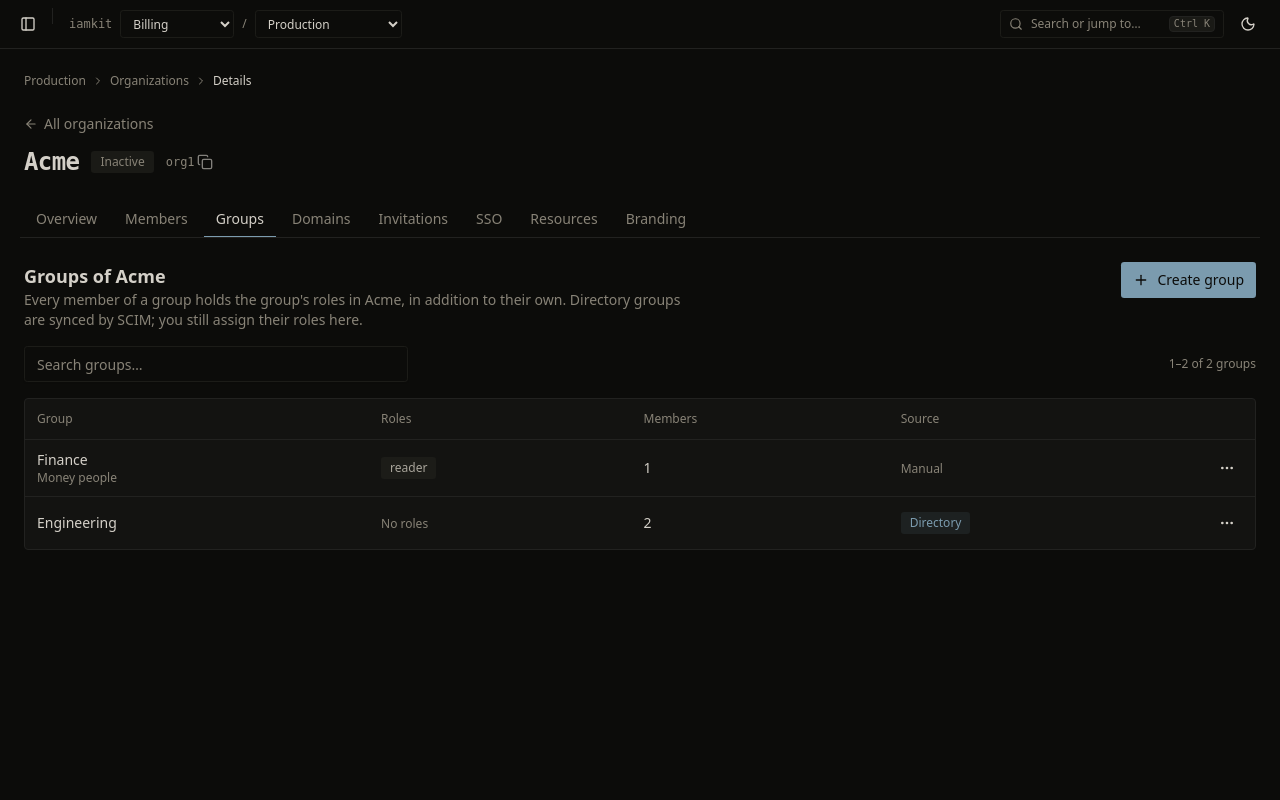
Test: lists groups with their roles, and makes directory groups read-only
The width and height of the screenshot is (1280, 800).
Expected: the link "Finance" is shown, top-left (37, 450), bottom-right (88, 468)
Expected: the heading "Groups of Acme" is shown, top-left (24, 264), bottom-right (166, 288)
Step 1. Click the button named "Actions for Finance" → (1227, 468), box top-left (1211, 452), bottom-right (1243, 484)
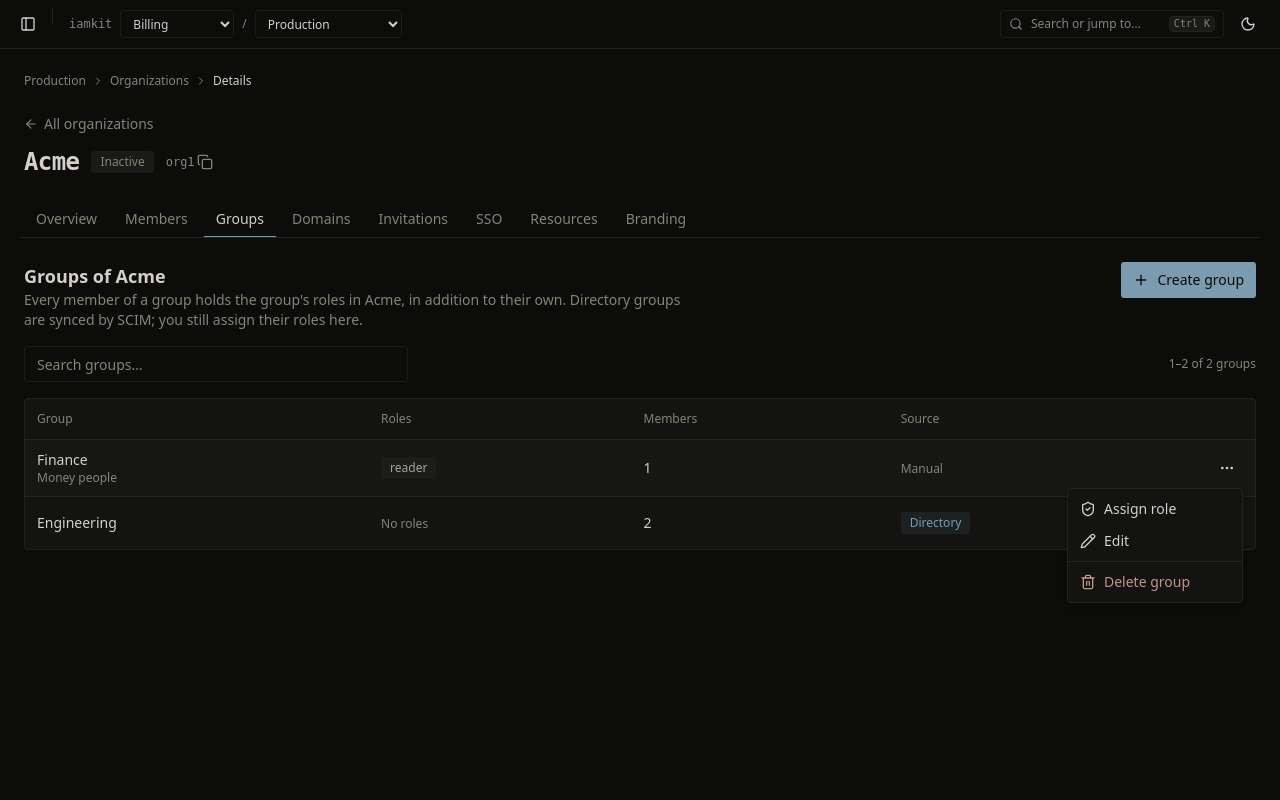
Expected: the menu item "Edit" is shown, top-left (1080, 531), bottom-right (1129, 550)
Expected: the menu item "Delete group" is shown, top-left (1080, 572), bottom-right (1190, 591)
Step 2. Press Escape
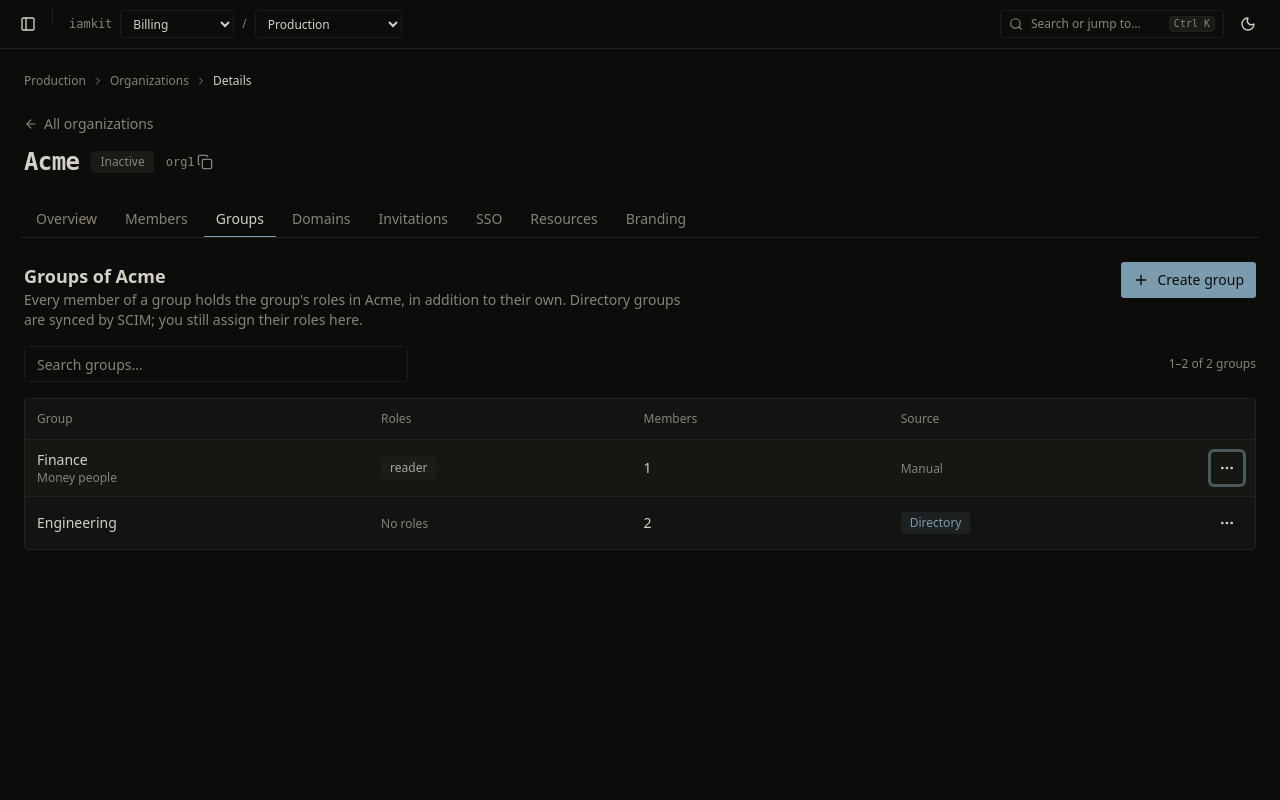
Expected: the text "Directory" is shown, top-left (901, 512), bottom-right (970, 534)
Step 3. Click the button named "Actions for Engineering" → (1227, 522), box top-left (1211, 506), bottom-right (1243, 538)
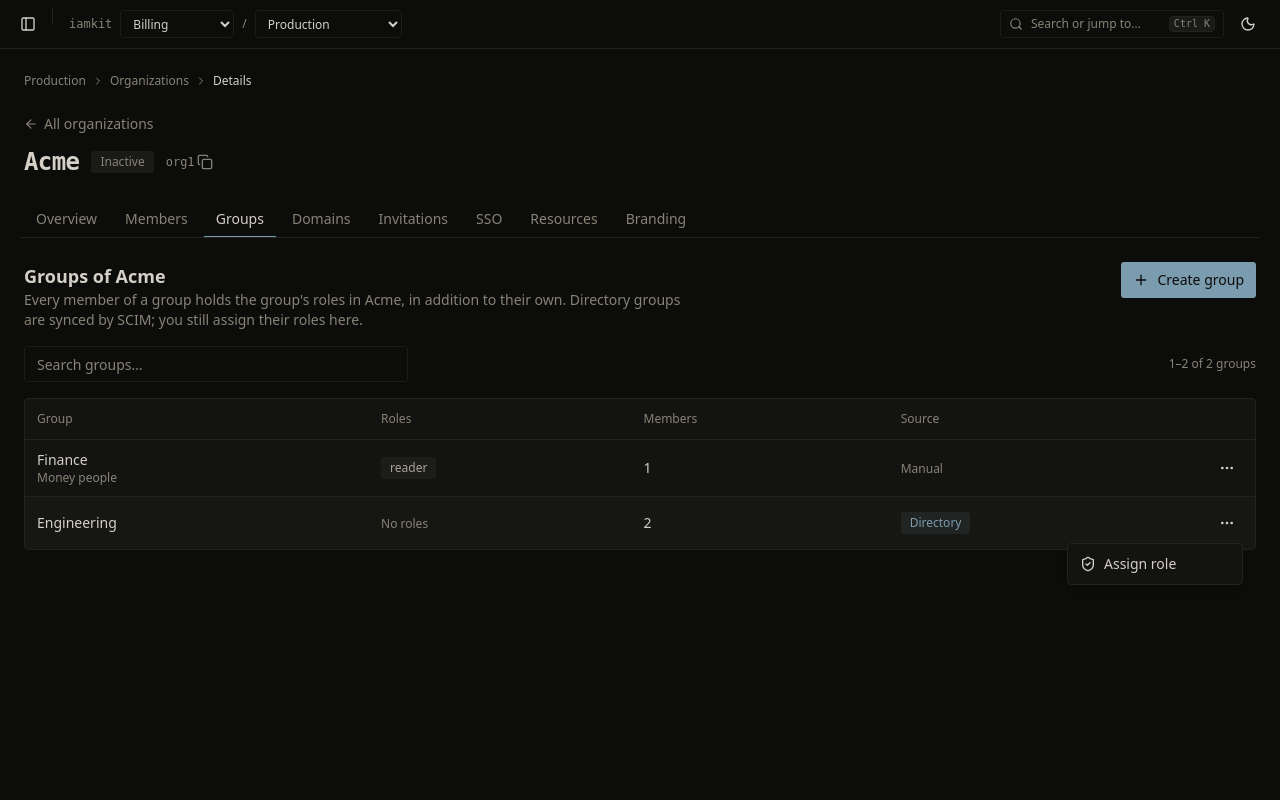
Expected: the menu item "Edit" is not shown
Expected: the menu item "Assign role" is shown, top-left (1080, 554), bottom-right (1176, 573)
